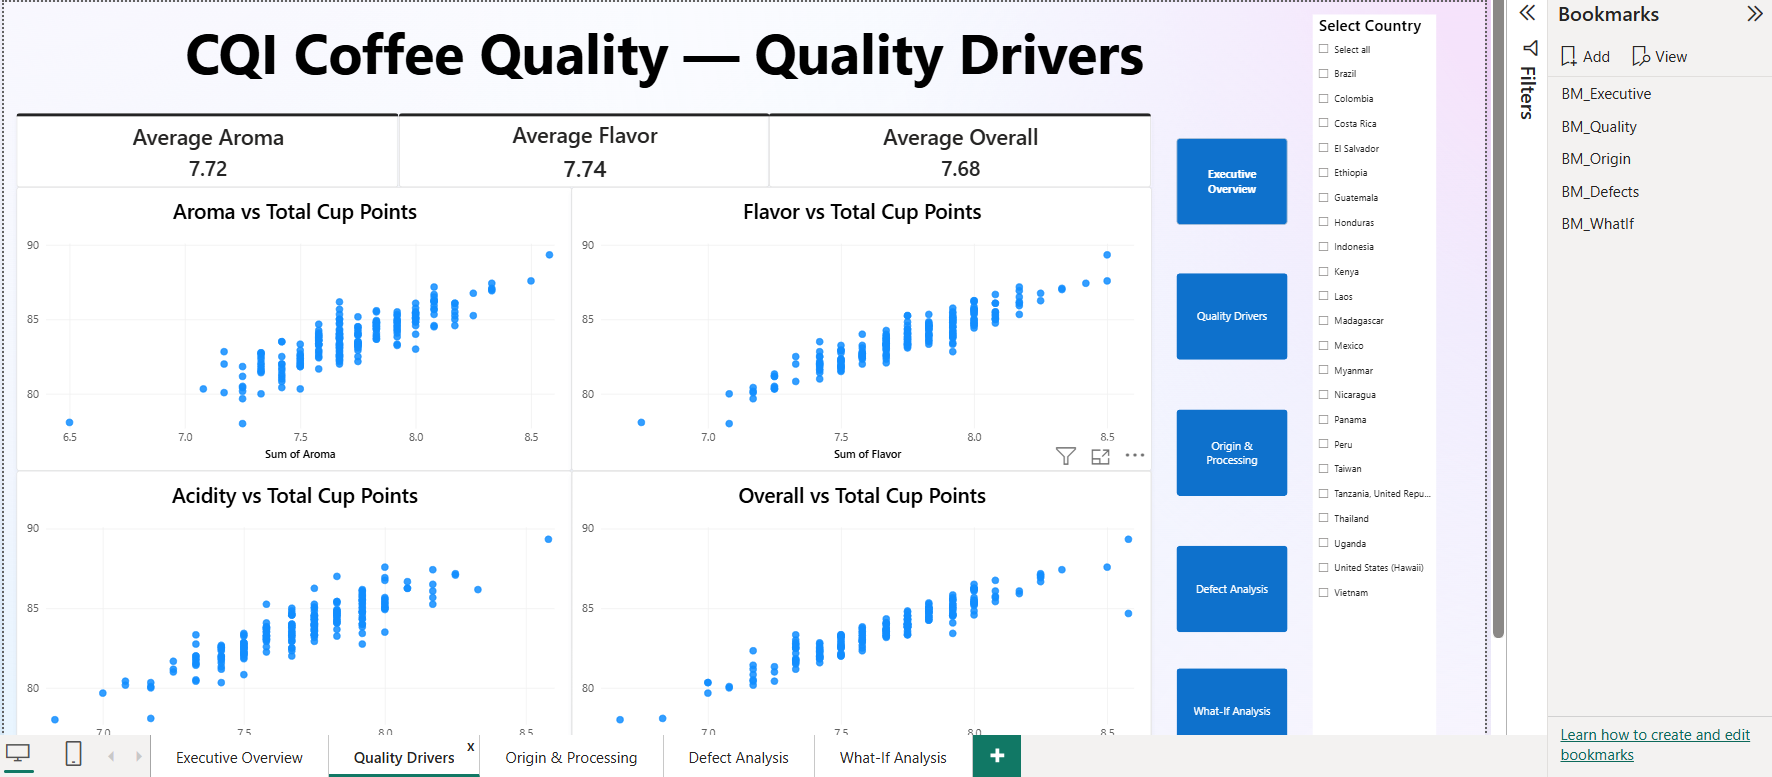

What the dashboard file says about the page in this screenshot:
{"tool":"powerbi","page":{"name":"Quality Drivers","canvas":[1920,1080],"ordinal":1},"visuals":[{"type":"cardVisual","fields":{"Data":["Coffee_Data.Average Aroma"]},"box":[16,144,496,96],"z":0},{"type":"cardVisual","fields":{"Data":["Coffee_Data.Average Flavor"]},"box":[512,144,480,96],"z":1000},{"type":"cardVisual","fields":{"Data":["Coffee_Data.Average Overall"]},"box":[992,144,496,96],"z":2000},{"type":"scatterChart","title":"Aroma vs Total Cup Points","fields":{"Category":["Coffee_Data.ID"],"X":["Sum(Coffee_Data.Aroma)"],"Y":["Sum(Coffee_Data.Total Cup Points)"]},"box":[16,240,720,368],"z":3000},{"type":"scatterChart","title":"Flavor vs Total Cup Points","fields":{"Category":["Coffee_Data.ID"],"X":["Sum(Coffee_Data.Flavor)"],"Y":["Sum(Coffee_Data.Total Cup Points)"]},"box":[736,240,752,368],"z":4000},{"type":"scatterChart","title":"Acidity vs Total Cup Points","fields":{"Category":["Coffee_Data.ID"],"X":["Sum(Coffee_Data.Acidity)"],"Y":["Sum(Coffee_Data.Total Cup Points)"]},"box":[16,608,720,384],"z":5000},{"type":"scatterChart","title":"Overall vs Total Cup Points","fields":{"Category":["Coffee_Data.ID"],"X":["Sum(Coffee_Data.Overall)"],"Y":["Sum(Coffee_Data.Total Cup Points)"]},"box":[736,608,752,384],"z":6000},{"type":"actionButton","box":[1520,176,144,112],"z":7000},{"type":"actionButton","box":[1520,352,144,112],"z":8000},{"type":"actionButton","box":[1520,528,144,112],"z":9000},{"type":"actionButton","box":[1520,704,144,112],"z":10000},{"type":"actionButton","box":[1520,864,144,112],"z":11000},{"type":"textbox","box":[16,16,1680,128],"z":12000},{"type":"slicer","fields":{"Values":["Coffee_Data.Country of Origin"]},"box":[1696,16,160,944],"z":13000}]}

Visuals, with their boxes on the page's 1920x1080 design canvas (x1, y1, x2, y2). These are canvas units, not pixel positions in the 1772x777 screenshot, which may show the page scaled, cropped or inside an application window:
cardVisual - Coffee_Data.Average Aroma: region(16, 144, 512, 240)
cardVisual - Coffee_Data.Average Flavor: region(512, 144, 992, 240)
cardVisual - Coffee_Data.Average Overall: region(992, 144, 1488, 240)
"Aroma vs Total Cup Points" scatterChart: region(16, 240, 736, 608)
"Flavor vs Total Cup Points" scatterChart: region(736, 240, 1488, 608)
"Acidity vs Total Cup Points" scatterChart: region(16, 608, 736, 992)
"Overall vs Total Cup Points" scatterChart: region(736, 608, 1488, 992)
actionButton: region(1520, 176, 1664, 288)
actionButton: region(1520, 352, 1664, 464)
actionButton: region(1520, 528, 1664, 640)
actionButton: region(1520, 704, 1664, 816)
actionButton: region(1520, 864, 1664, 976)
textbox: region(16, 16, 1696, 144)
slicer - Coffee_Data.Country of Origin: region(1696, 16, 1856, 960)
